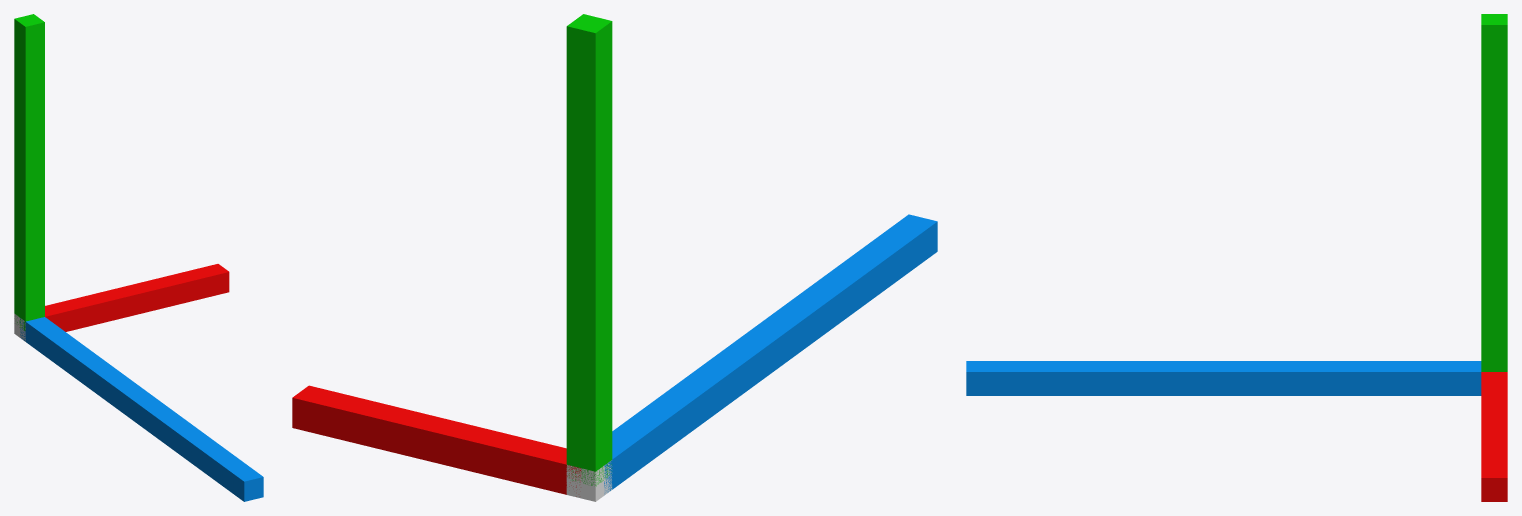
File: axes_METROS.glb
The picture shows the model from 3 angles, left to right: view 1: azimuth 30°, elevation 25°; view 2: azimuth 150°, elevation 25°; view 3: azimuth 270°, elevation 25°; orthographic projection. The views are drawn at different scales.
Visible parts, largest first — view 1: Y_verde_150mm, Z_azul_200mm, X_rojo_100mm; view 2: Y_verde_150mm, Z_azul_200mm, X_rojo_100mm, origen_10mm; view 3: Z_azul_200mm, Y_verde_150mm, X_rojo_100mm.
Boxes of the visible parts, bbox=[...] form: Y_verde_150mm: bbox=[14, 14, 44, 330]; Z_azul_200mm: bbox=[20, 317, 263, 501]; X_rojo_100mm: bbox=[45, 264, 229, 331]; Y_verde_150mm: bbox=[566, 14, 612, 486]; Z_azul_200mm: bbox=[604, 214, 937, 493]; X_rojo_100mm: bbox=[292, 385, 581, 496]; origen_10mm: bbox=[566, 460, 612, 501]; Z_azul_200mm: bbox=[966, 361, 1481, 395]; Y_verde_150mm: bbox=[1481, 14, 1507, 371]; X_rojo_100mm: bbox=[1481, 372, 1507, 501].
Bounding box in the file's own units: 0.105 × 0.155 × 0.205.
